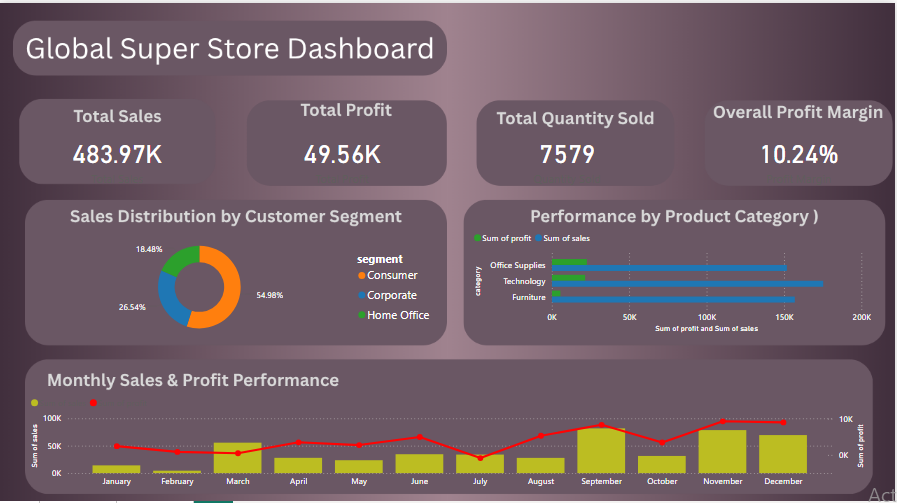

This screenshot's page, from the dashboard's own definition file:
{"tool":"powerbi","page":{"name":"Page 1","canvas":[1280,720],"ordinal":0},"visuals":[{"type":"card","fields":{"Values":["superstore_2019_cleaned.Total Sales"]},"box":[18.4,116.2,300.5,214],"z":0},{"type":"card","fields":{"Values":["superstore_2019_cleaned.Total Profit"]},"box":[340.2,116.2,300.5,214],"z":1000},{"type":"card","fields":{"Values":["superstore_2019_cleaned.Quantity Sold"]},"box":[661.9,116.2,300.5,214],"z":2000},{"type":"card","fields":{"Values":["superstore_2019_cleaned.Profit Margin"]},"box":[1006.3,116.2,273.5,214],"z":3000},{"type":"lineStackedColumnComboChart","fields":{"Category":["superstore_2019_cleaned.order_date.Variation.Date Hierarchy.Month"],"Y":["Sum(superstore_2019_cleaned.sales)"],"Y2":["Sum(superstore_2019_cleaned.profit)"]},"box":[39.7,551.3,1201.9,150.2],"z":4000},{"type":"clusteredBarChart","fields":{"Category":["superstore_2019_cleaned.category"],"Y":["Sum(superstore_2019_cleaned.profit)","Sum(superstore_2019_cleaned.sales)"]},"box":[673.2,316.1,578.3,160.2],"z":5000},{"type":"donutChart","fields":{"Category":["superstore_2019_cleaned.segment"],"Y":["Sum(superstore_2019_cleaned.sales)"]},"box":[55.3,326,574,160.2],"z":6000}]}

Visuals, with their boxes in screenshot pixels (x1, y1, x2, y2), scaled from the page's 1280x720 canvas onto the 897x503 screenshot:
card - superstore_2019_cleaned.Total Sales: BBox(13, 81, 223, 231)
card - superstore_2019_cleaned.Total Profit: BBox(238, 81, 449, 231)
card - superstore_2019_cleaned.Quantity Sold: BBox(464, 81, 674, 231)
card - superstore_2019_cleaned.Profit Margin: BBox(705, 81, 896, 231)
lineStackedColumnComboChart - superstore_2019_cleaned.order_date.Variation.Date Hierarchy.Month x Sum(superstore_2019_cleaned.sales): BBox(28, 385, 870, 490)
clusteredBarChart - superstore_2019_cleaned.category x Sum(superstore_2019_cleaned.profit): BBox(472, 221, 877, 333)
donutChart - superstore_2019_cleaned.segment x Sum(superstore_2019_cleaned.sales): BBox(39, 228, 441, 340)
